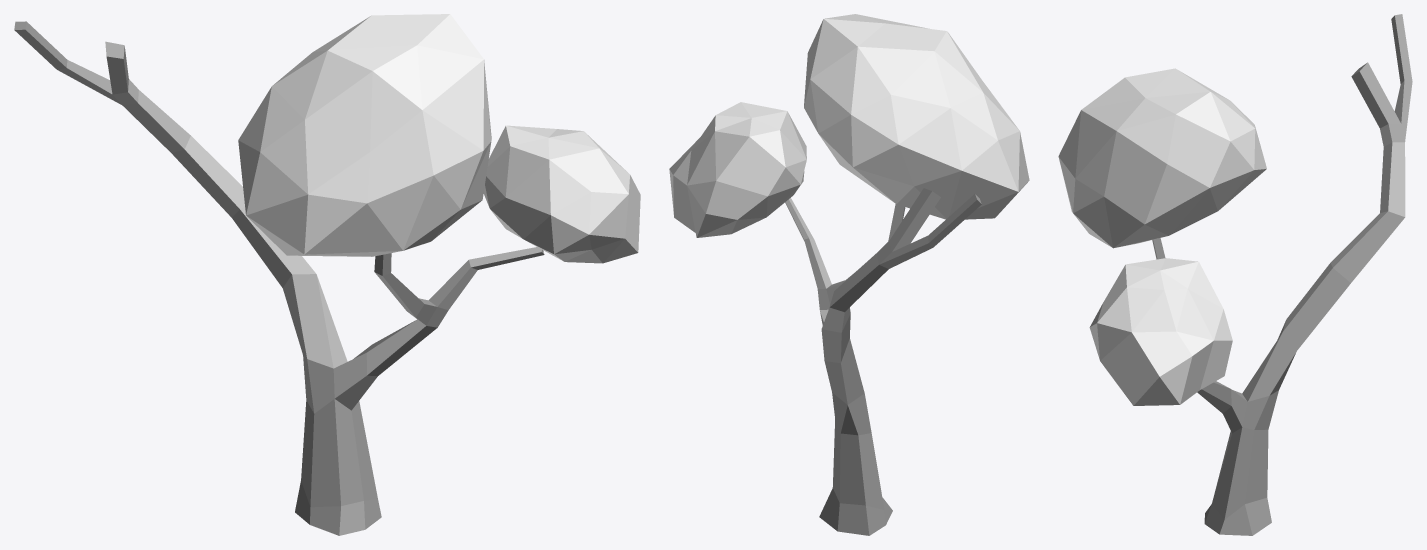
File: dprop_tree4.fbx
3 renders of one model, left to right at view 1: azimuth 30°, elevation 25°; view 2: azimuth 150°, elevation 25°; view 3: azimuth 270°, elevation 25°, orthographic. The views are drawn at different scales.
Parts seen in each view (by area): view 1: TreeA04_; view 2: TreeA04_; view 3: TreeA04_.
Part boxes in pixels (x1=…): TreeA04_: x1=14, y1=14, x2=640, y2=535; TreeA04_: x1=669, y1=14, x2=1029, y2=535; TreeA04_: x1=1058, y1=14, x2=1412, y2=535.
Size of the model in its own units: 259 by 190 by 260.
